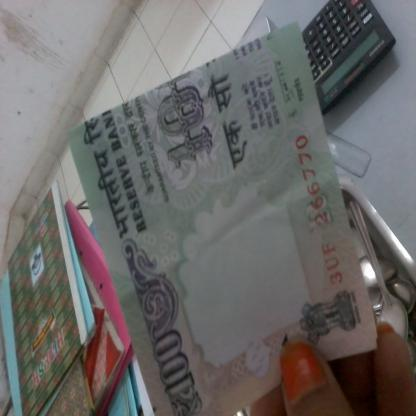Old100Front: (64, 19, 378, 416)
